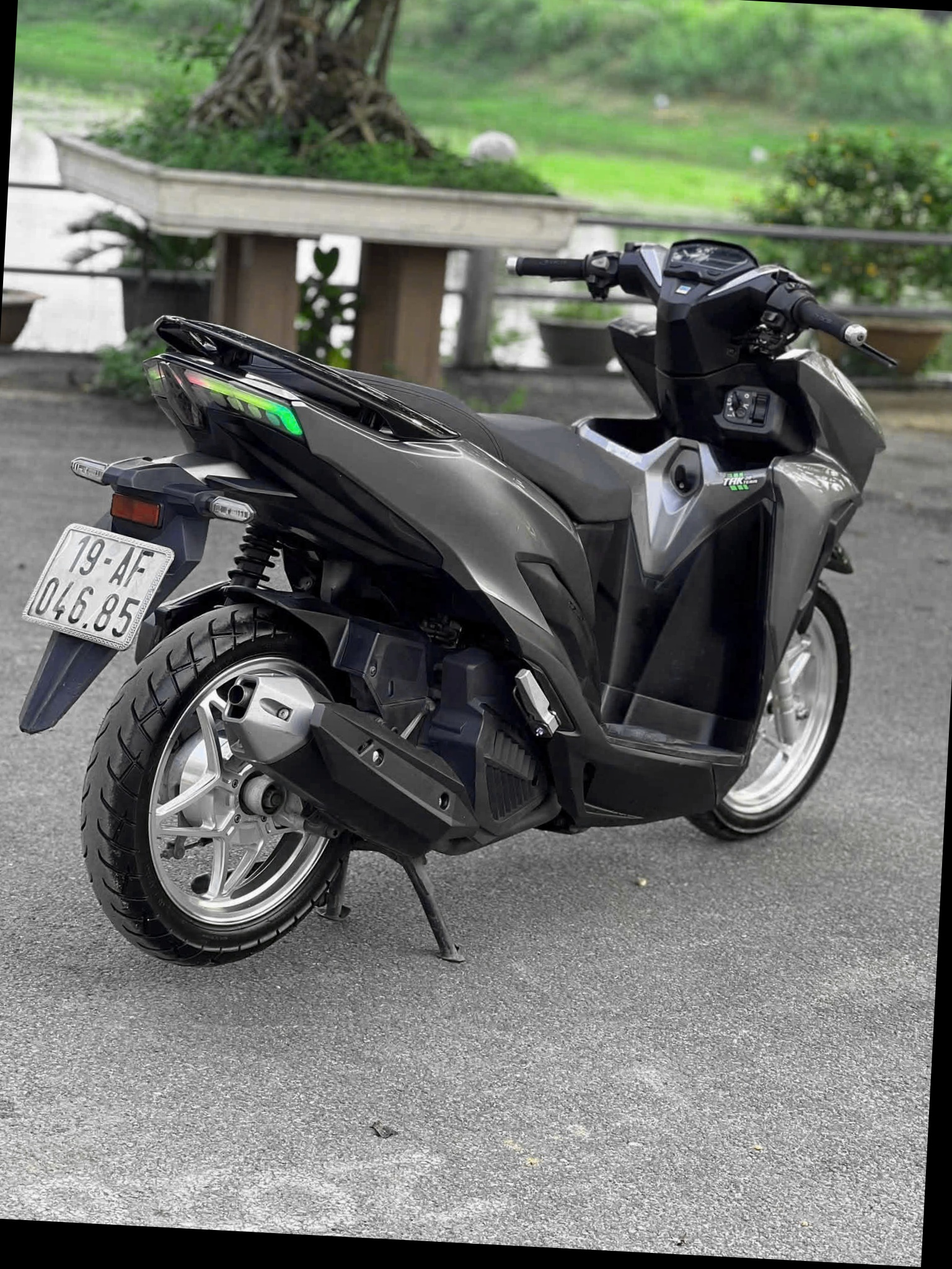Bien-so: (24, 518, 178, 653)
